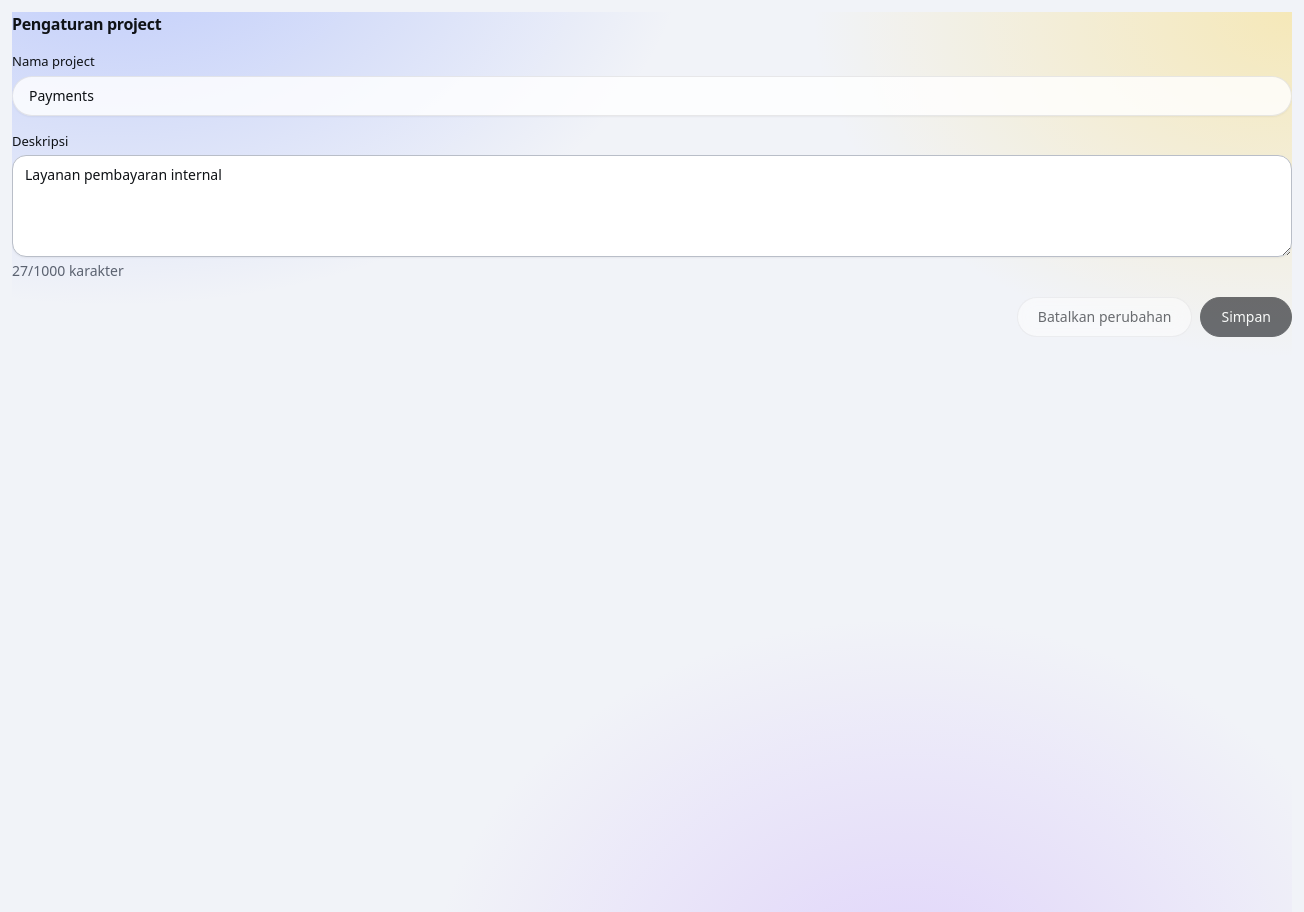
Test case: ProjectSettingsView › 400 fields.name shows on input; fields.body -> nothingToSave
Type " v2" into the field labelled "Nama project" at (652, 96), box x1=12 y1=76 x2=1292 y2=116
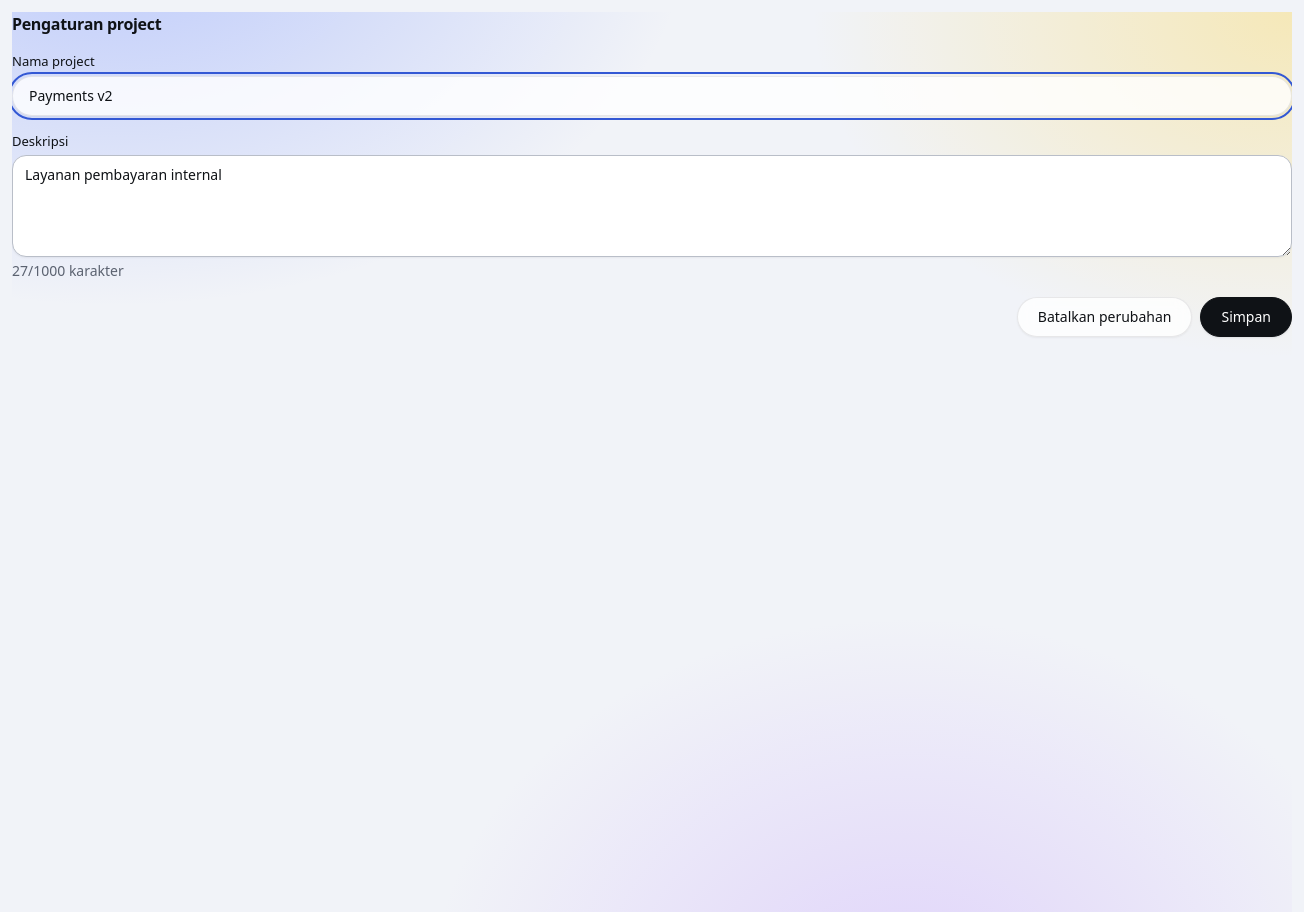
Click the button "Simpan" at (1246, 317), box x1=1200 y1=297 x2=1292 y2=337
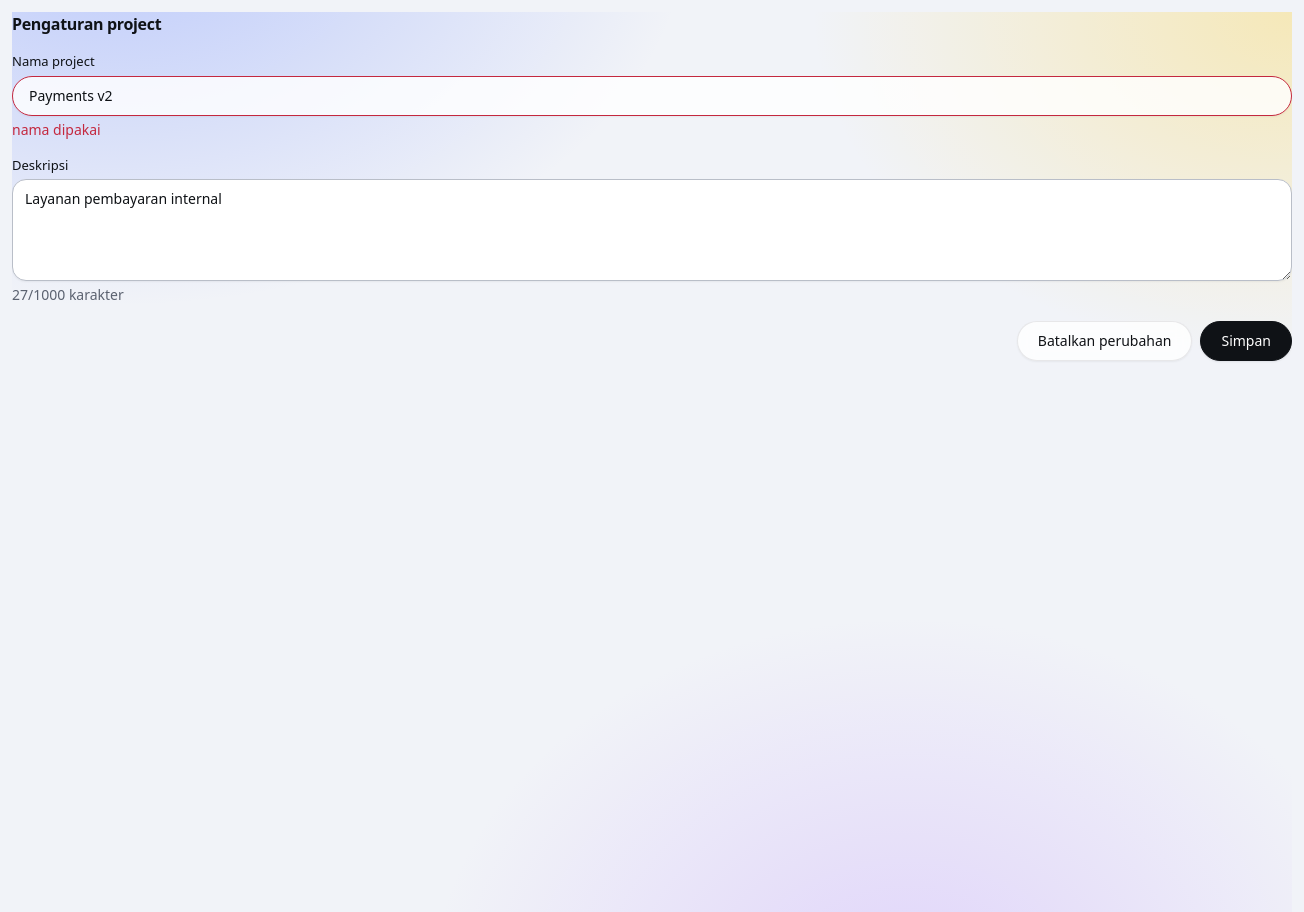
Expected: the text "nama dipakai" is shown, x1=12 y1=120 x2=101 y2=138
